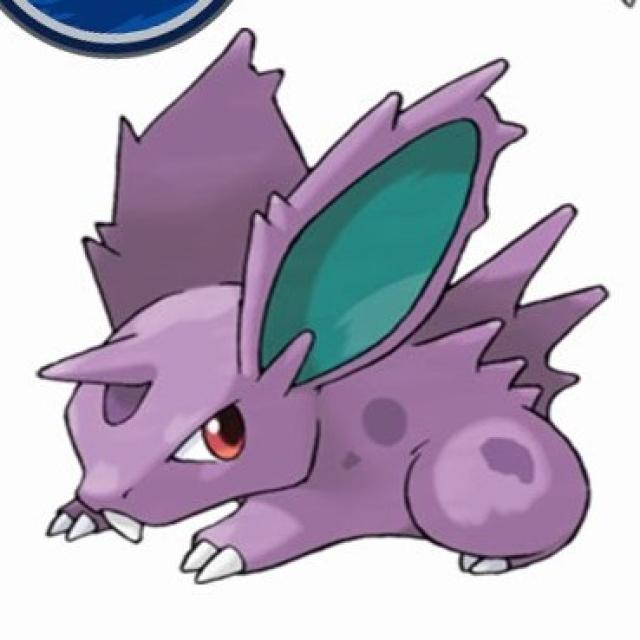Nidorino: (58, 92, 593, 568)
